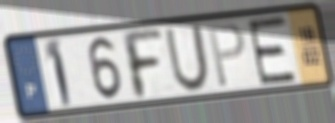1: (42, 37, 74, 109)
6: (86, 34, 125, 102)
E: (245, 14, 299, 88)
F: (117, 28, 166, 102)
P: (206, 20, 247, 90)
U: (163, 22, 212, 94)
